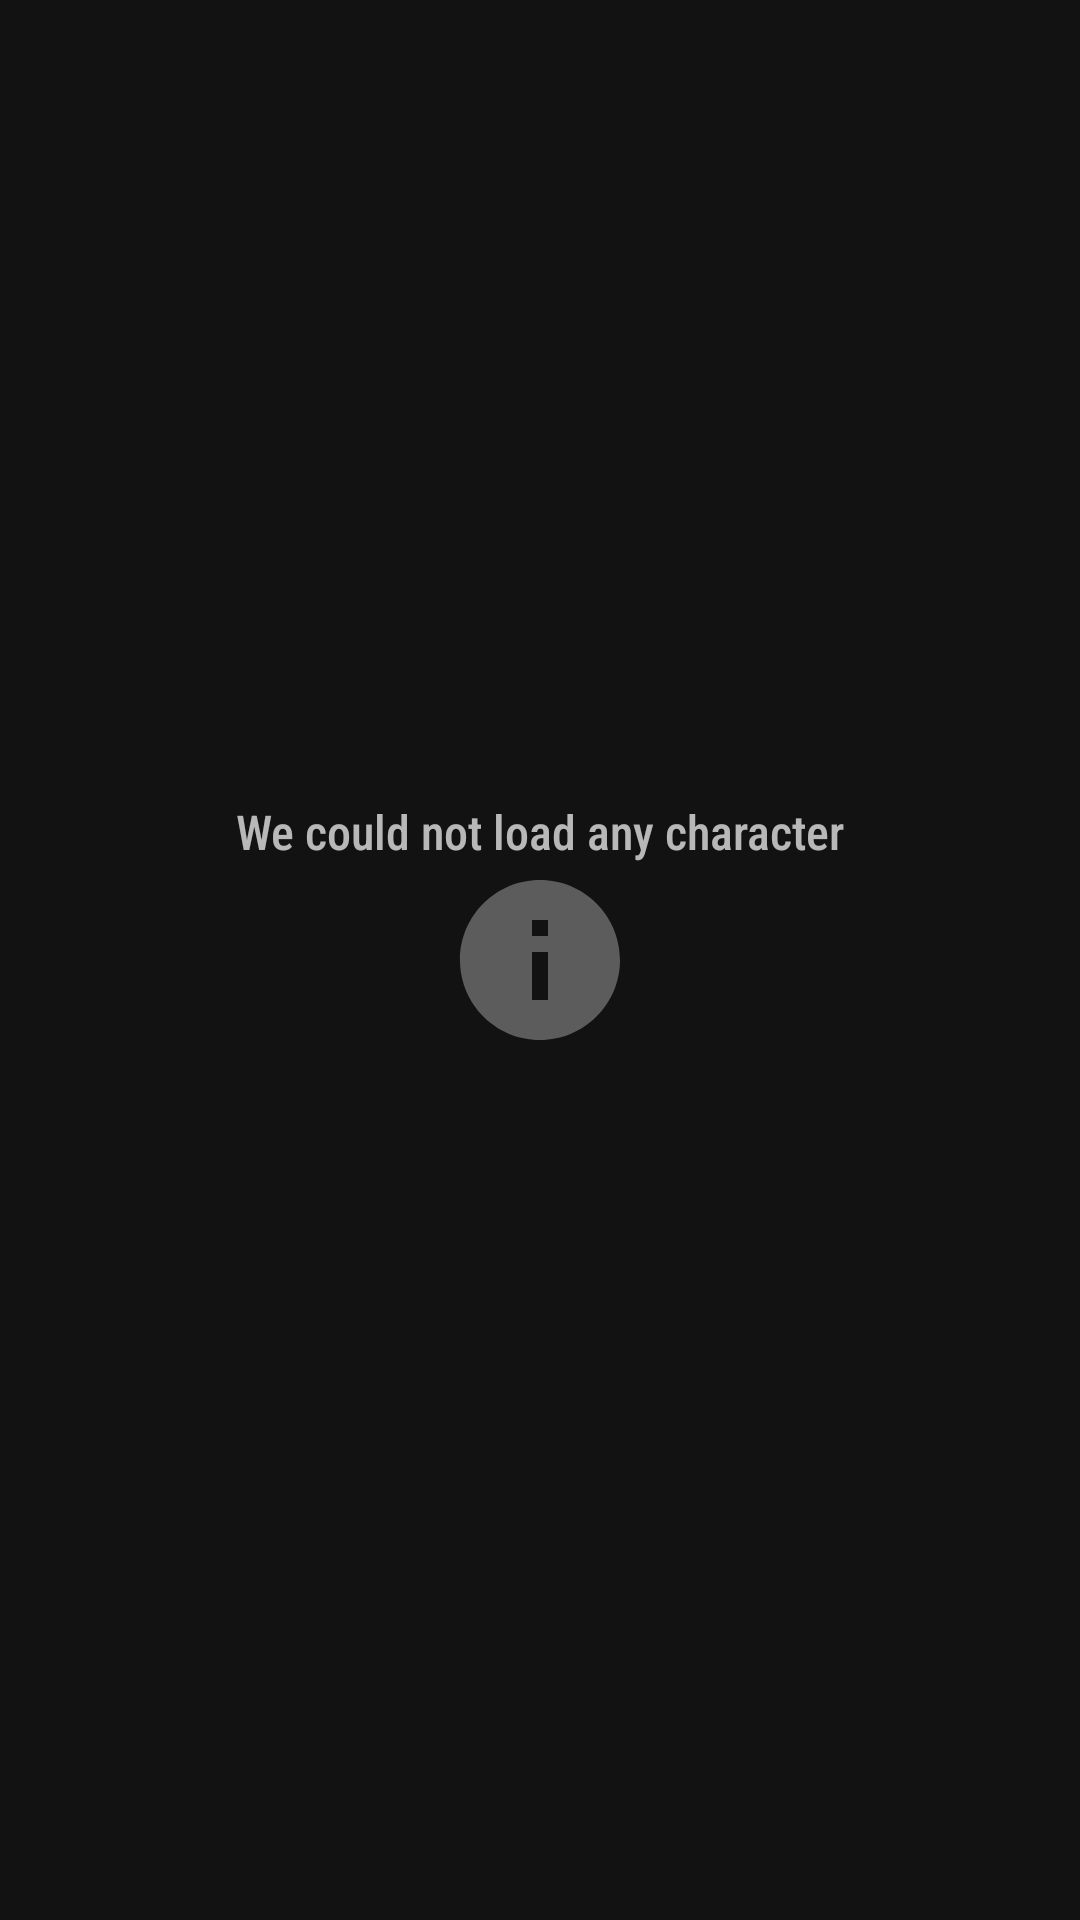

Icons on this 1080px x 1920px Android screen, each with the point to tap as (x=x, y=y):
info: (x=540, y=960)
